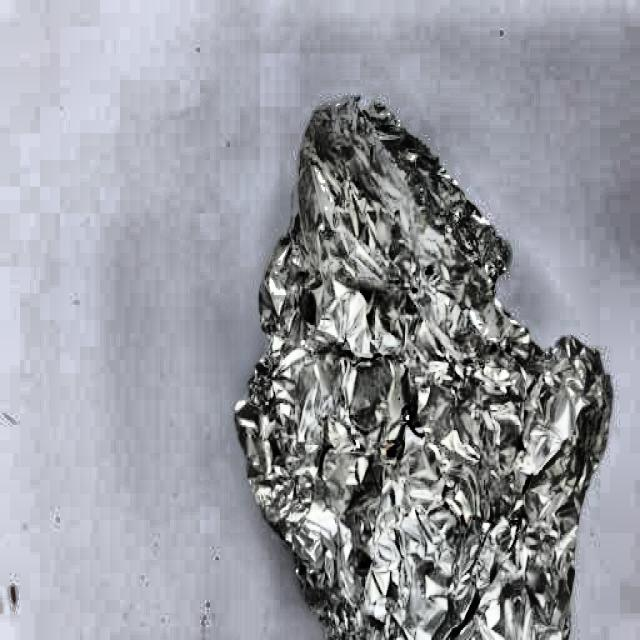metal: (225, 94, 617, 640)
